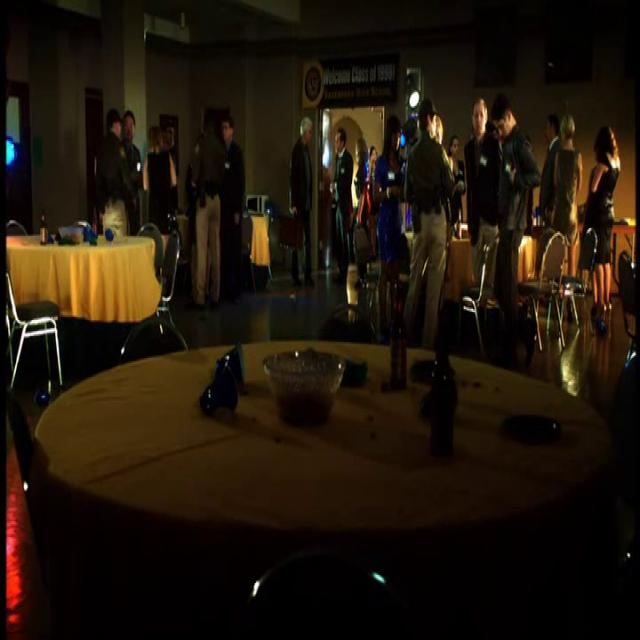Bottle: (422, 293, 458, 460), (35, 204, 50, 244)
People: (400, 94, 454, 335), (581, 109, 617, 332), (188, 114, 227, 301), (285, 108, 320, 282), (376, 112, 404, 302), (488, 93, 528, 224), (466, 91, 500, 222), (551, 109, 581, 257), (96, 98, 134, 214), (331, 123, 359, 273), (214, 109, 245, 212), (146, 122, 176, 212), (541, 100, 563, 199), (122, 98, 142, 203), (350, 127, 368, 205), (362, 137, 380, 200)
Table: (42, 336, 620, 615), (11, 220, 182, 362), (425, 221, 587, 304)
chair: (0, 257, 73, 401), (524, 230, 570, 356), (455, 234, 499, 355), (149, 235, 185, 321), (137, 218, 166, 279)
